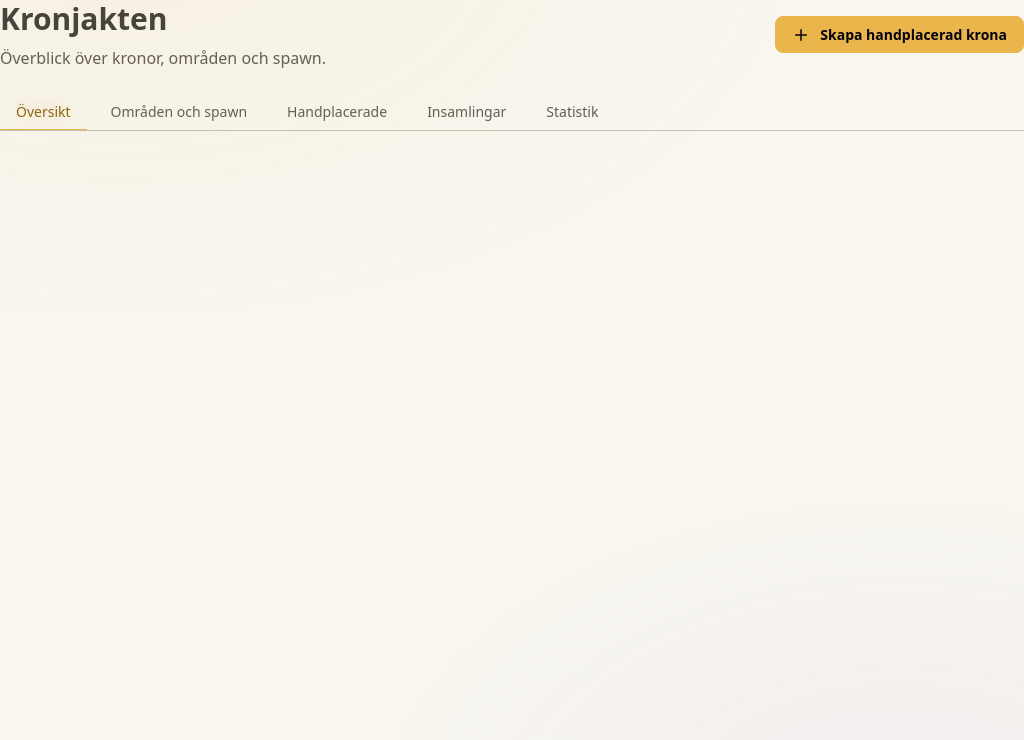
Test case: Kronjakt point form — collectable redesign › reverse-maps an existing reward to its tier when editing (25 KP → Uncommon)
Click the tab "Handplacerade": x=337, y=112 [271, 94, 403, 130]
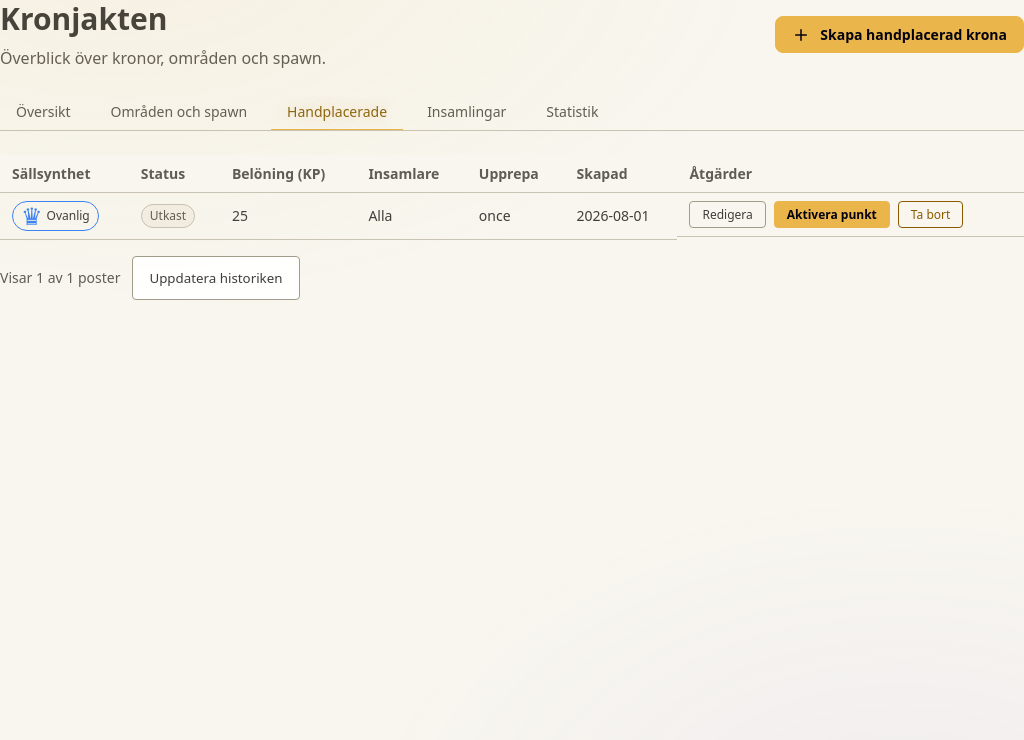
Click the button "Redigera": x=728, y=214 [689, 200, 766, 228]
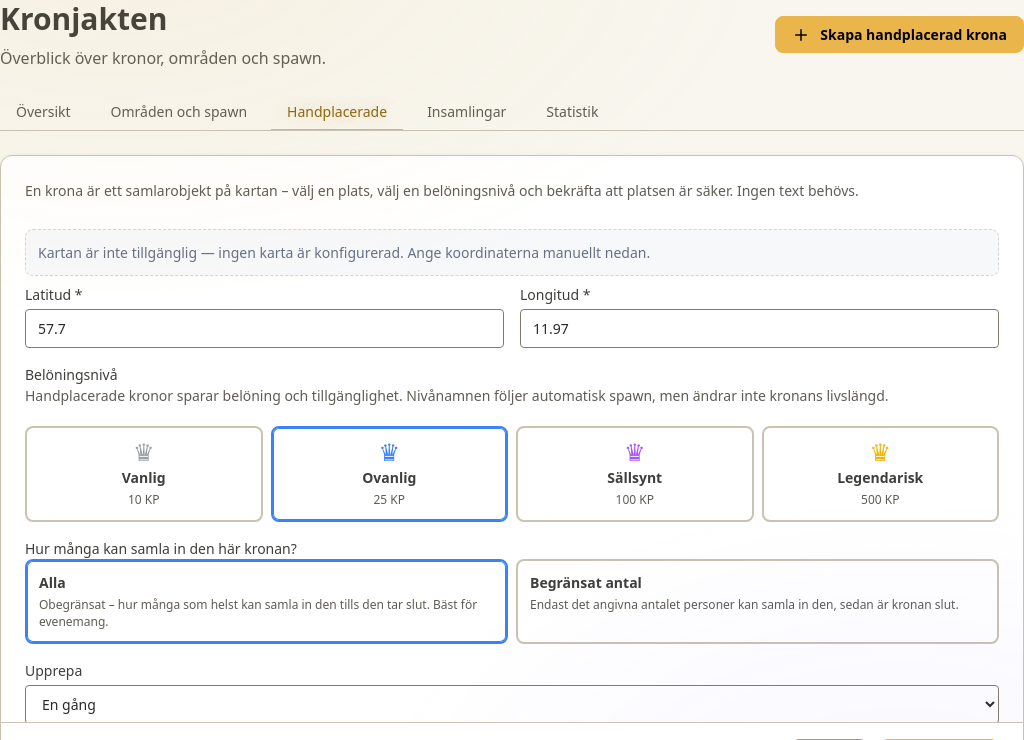
Now the button "♛ Ovanlig 25 KP" is shown, box [270, 426, 508, 522]
